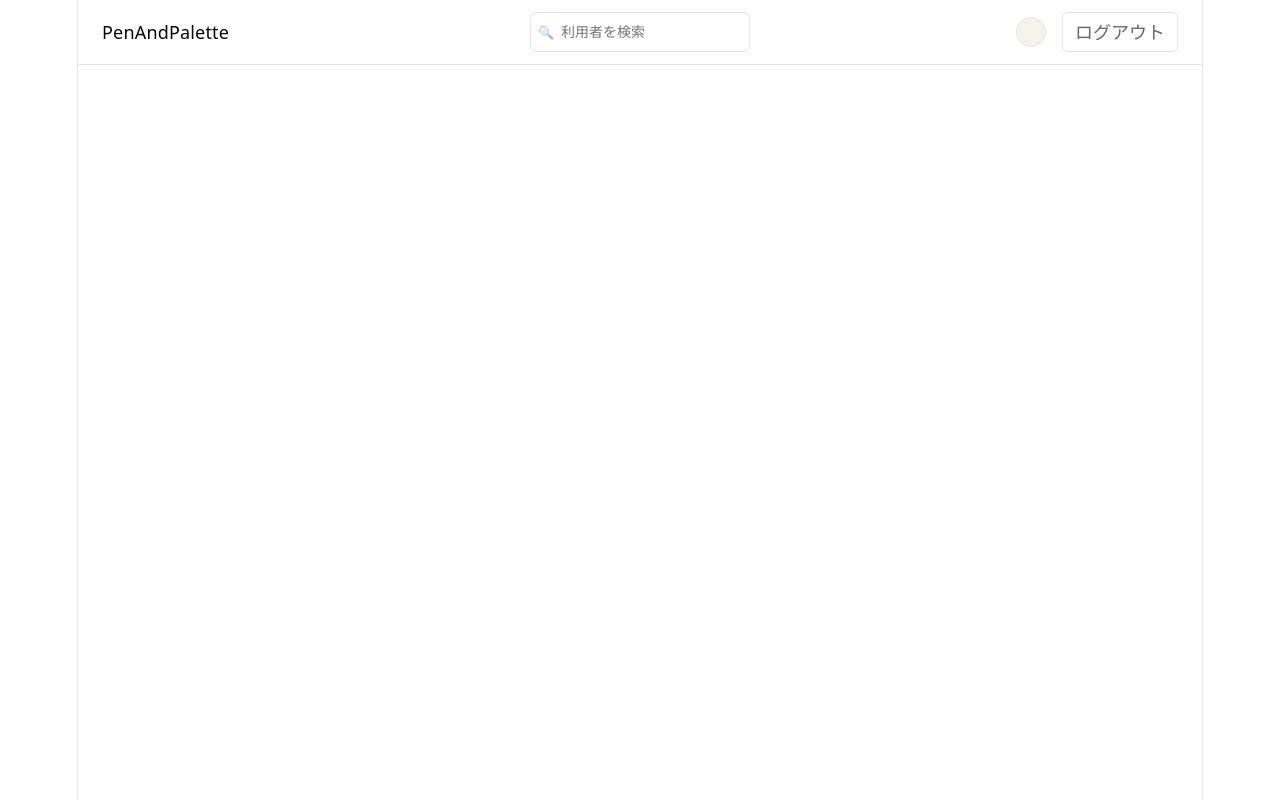
Test: AppHeader › 該当する利用者がいないときは候補内にその旨を表示する
Type "いない人" into the search field with test id "header-search-input" at [640, 32], box left=530, top=12, right=750, bottom=52
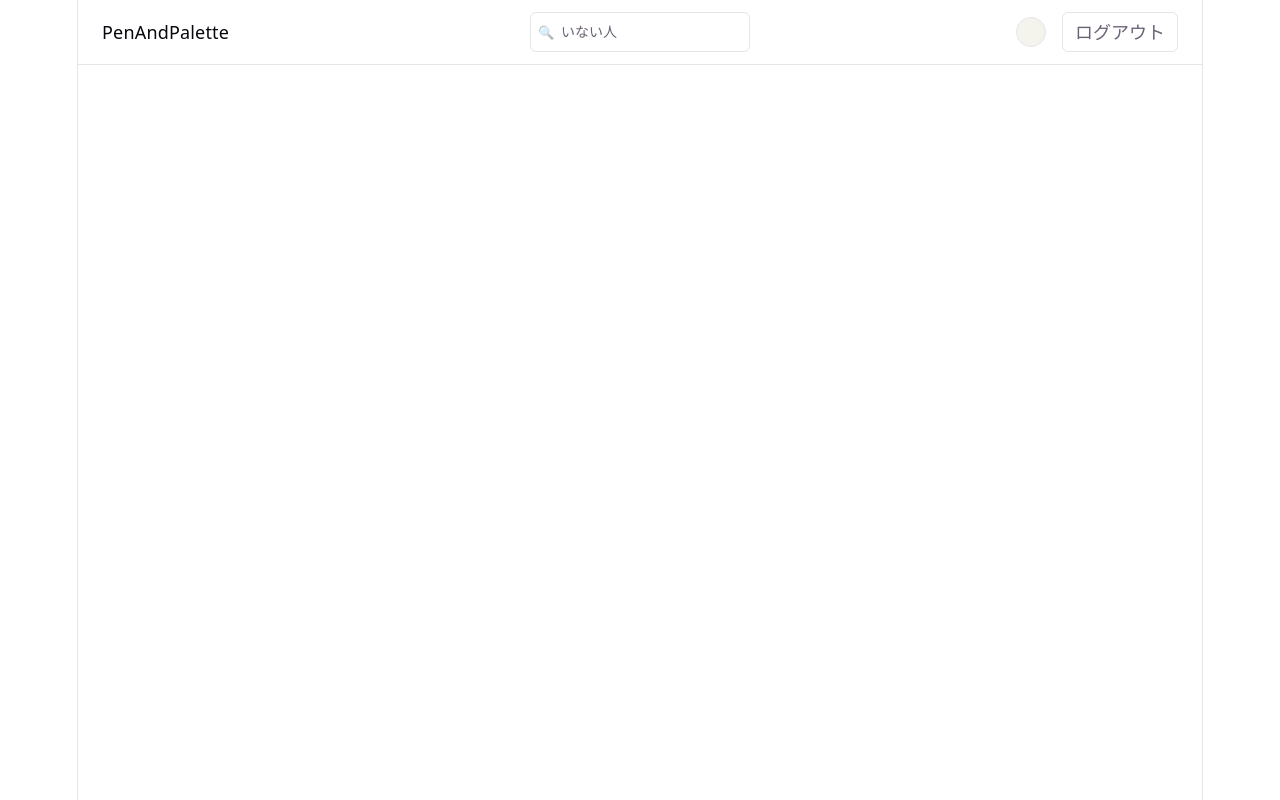
Click the button with test id "header-search-submit" at [546, 32], box left=534, top=20, right=558, bottom=44
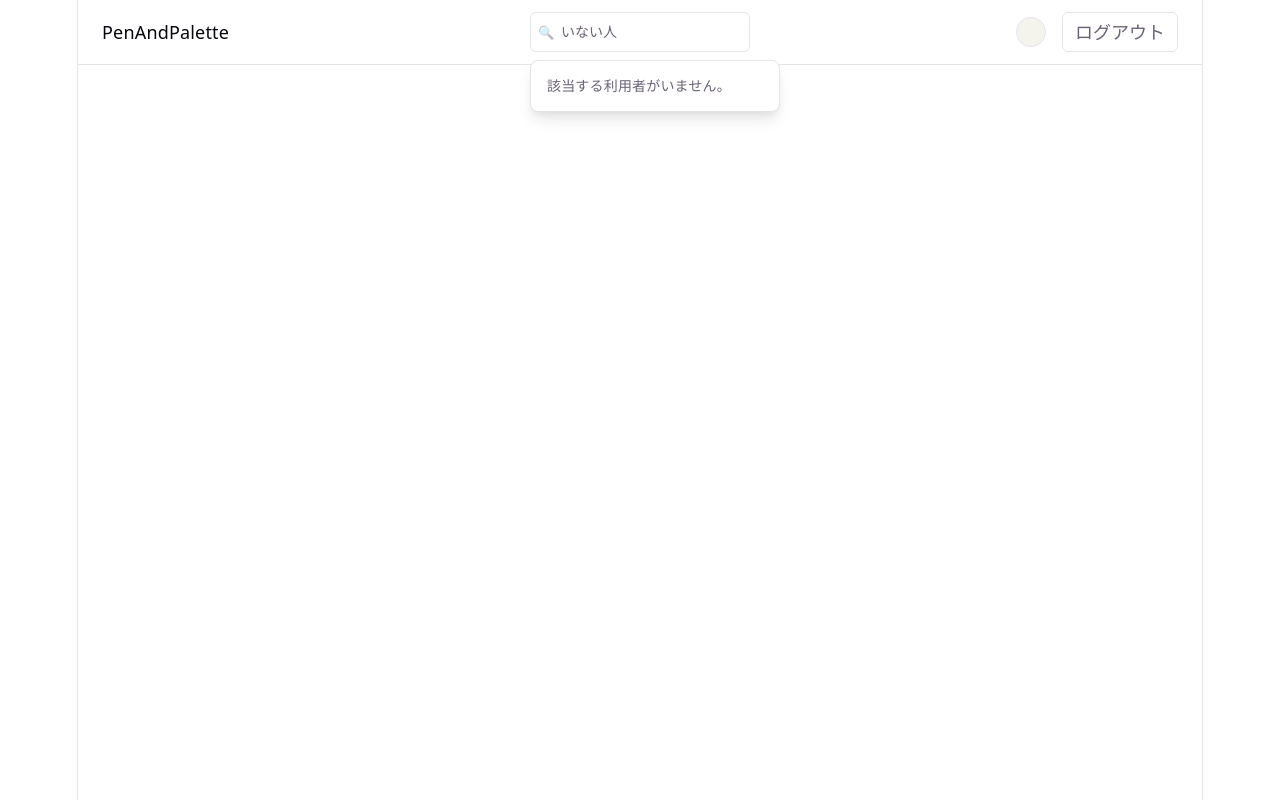
Expected: the text "該当する利用者がいません。" is shown, left=547, top=76, right=731, bottom=95
